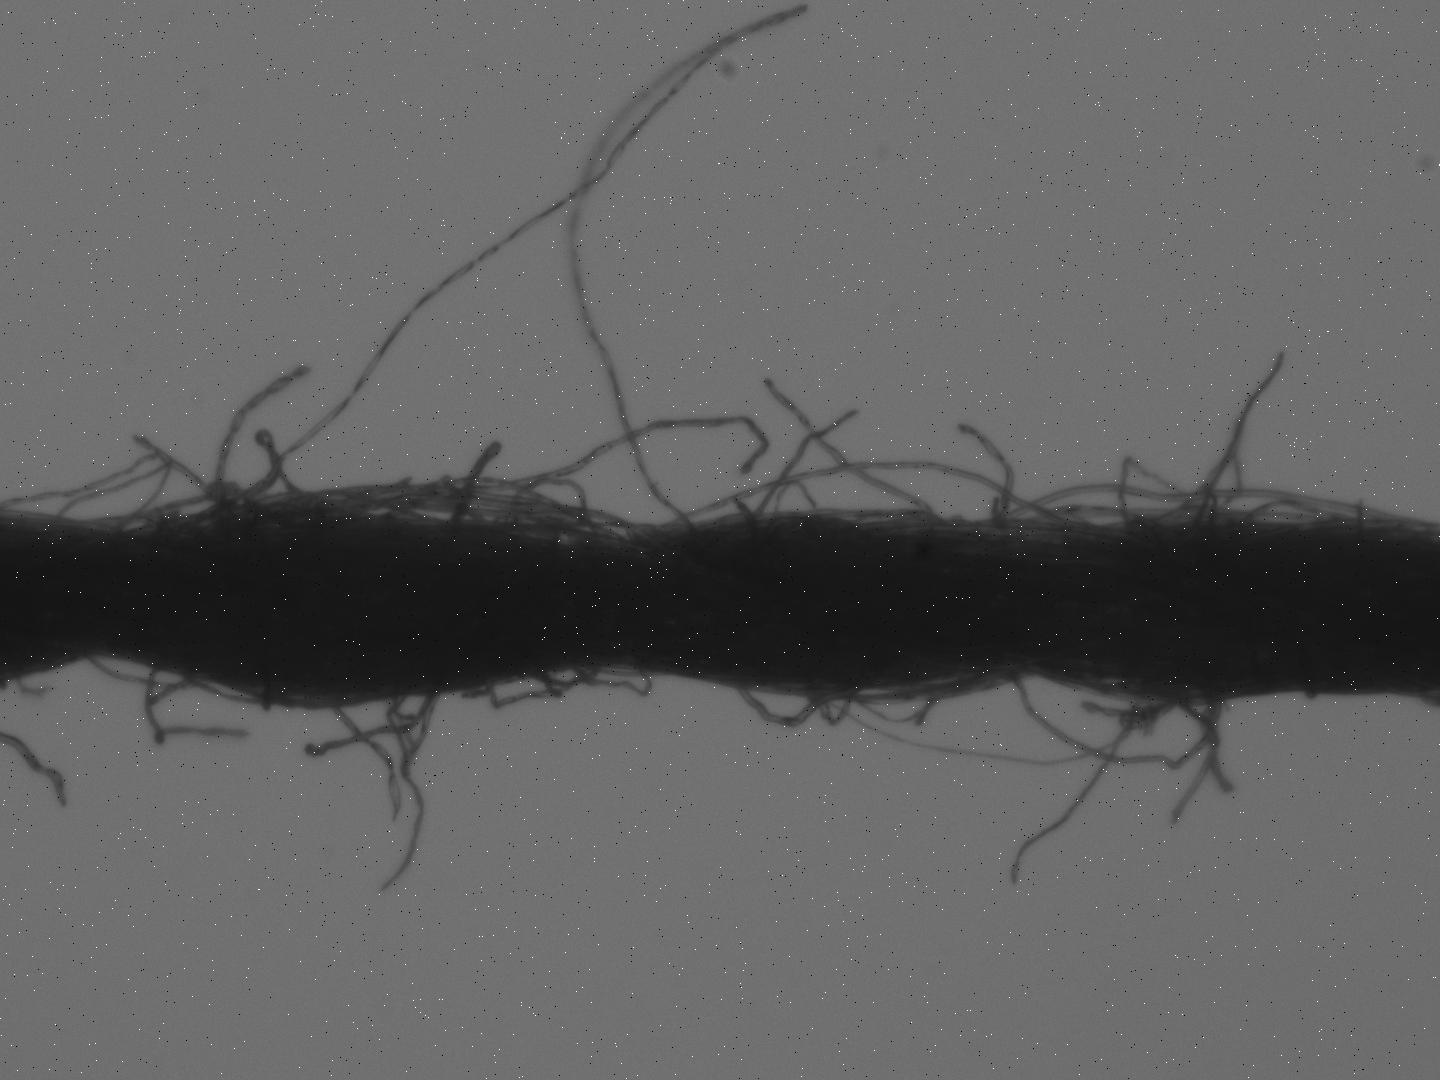loop_fiber: (1003, 668, 1214, 771), (321, 476, 630, 543), (187, 422, 356, 534), (502, 475, 662, 549), (91, 478, 276, 540), (473, 661, 651, 716), (869, 665, 989, 727), (1113, 453, 1193, 545), (73, 649, 197, 701), (731, 683, 863, 731), (763, 480, 819, 533)
protruding_fiber: (1184, 349, 1288, 551)
